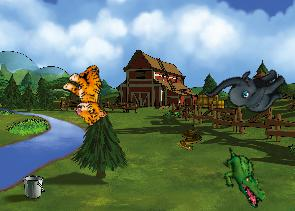crocodile: (209, 145, 278, 210)
elephant: (204, 46, 293, 134)
tiger: (55, 59, 123, 129)
